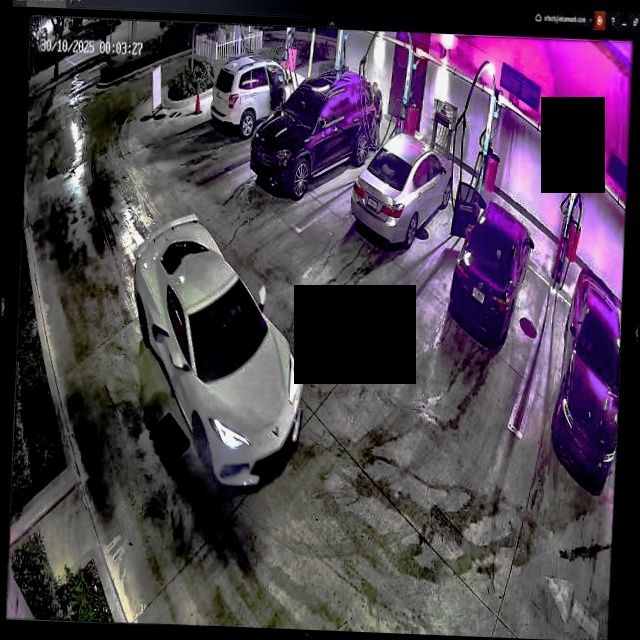Car: (126, 209, 310, 491), (249, 68, 380, 197), (448, 186, 536, 348), (346, 129, 455, 245)
